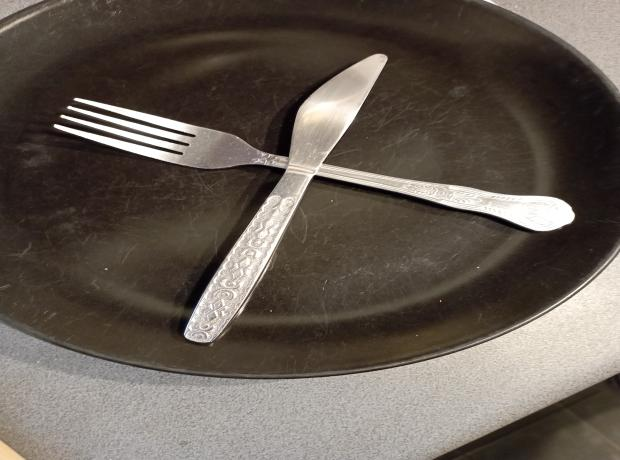metal: (50, 96, 578, 233), (182, 53, 392, 346)
